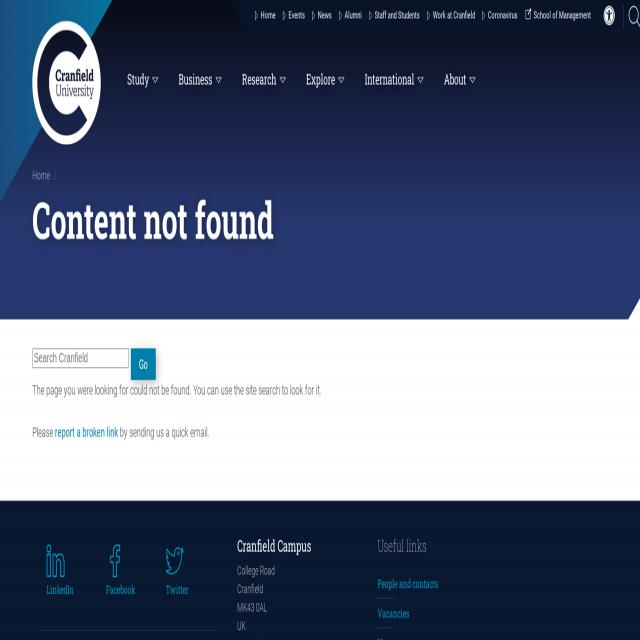button: (32, 21, 101, 145), (361, 66, 429, 93), (173, 65, 227, 94), (435, 64, 482, 94), (238, 66, 292, 92), (301, 66, 350, 93), (121, 66, 165, 93), (130, 349, 156, 380), (46, 545, 64, 577), (106, 545, 124, 577), (166, 545, 183, 577), (623, 0, 640, 28), (603, 6, 615, 25)
field: (32, 348, 130, 368)
